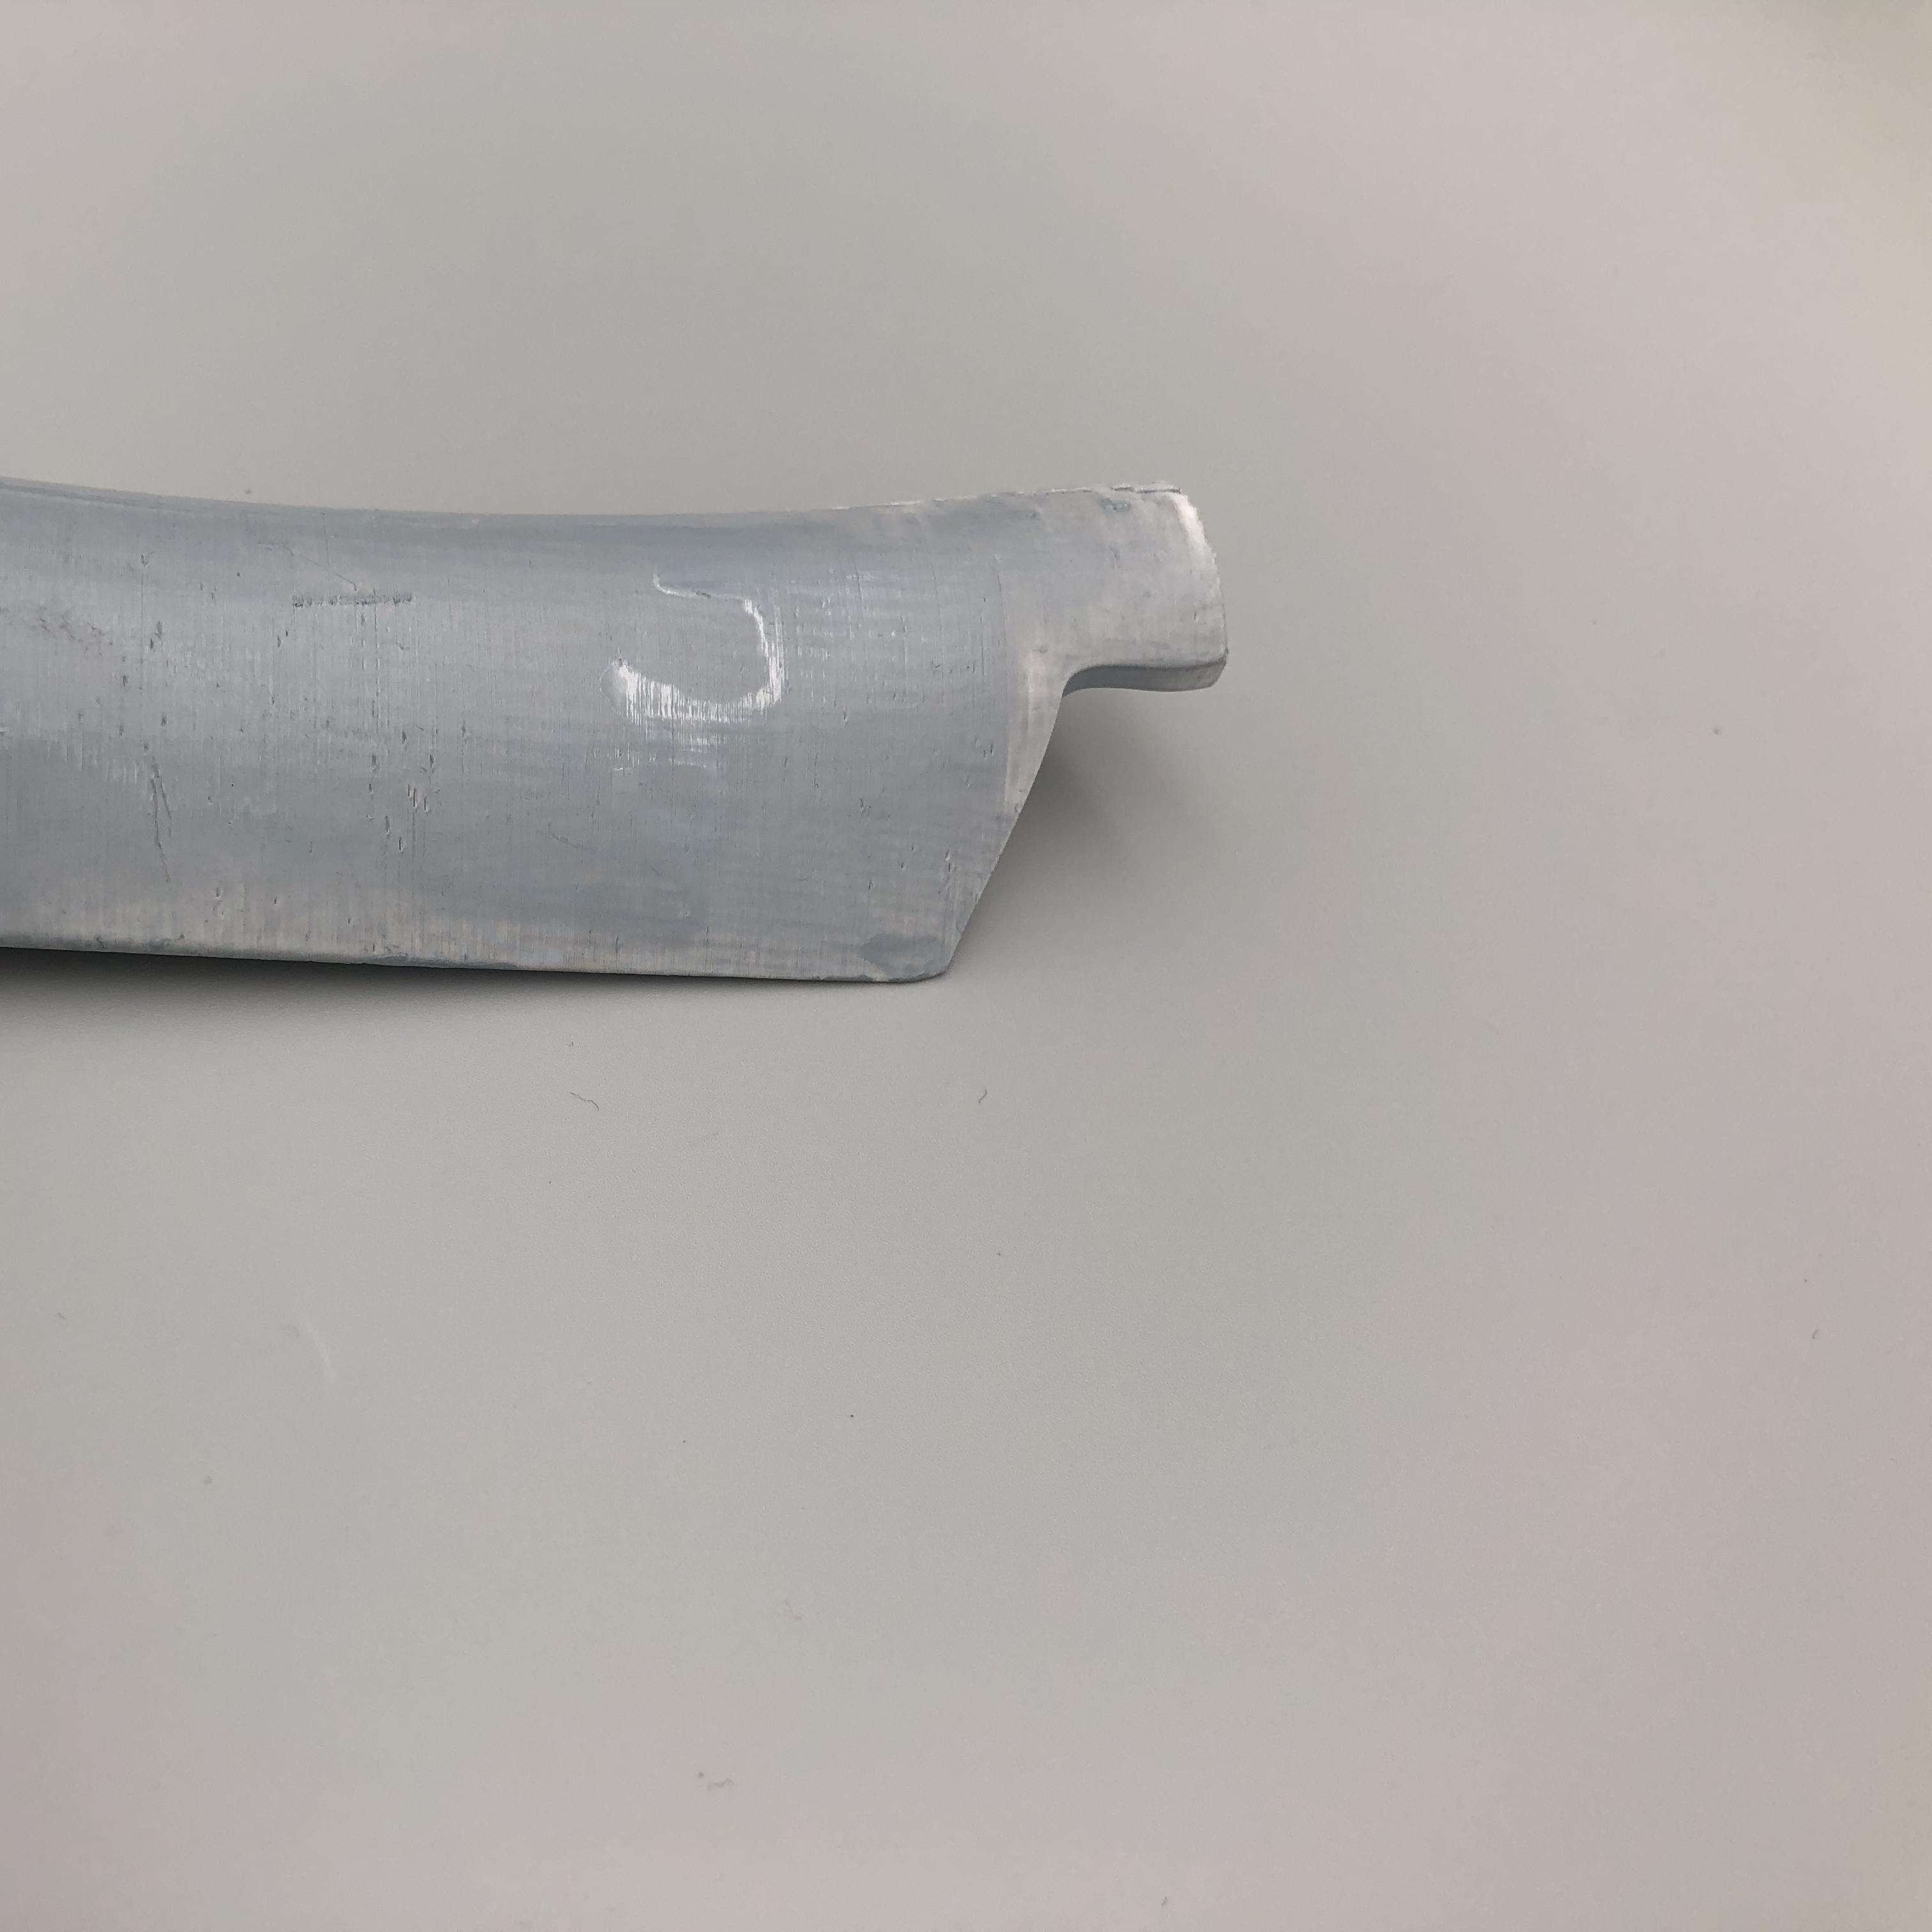fracture: (925, 646, 1265, 959)
